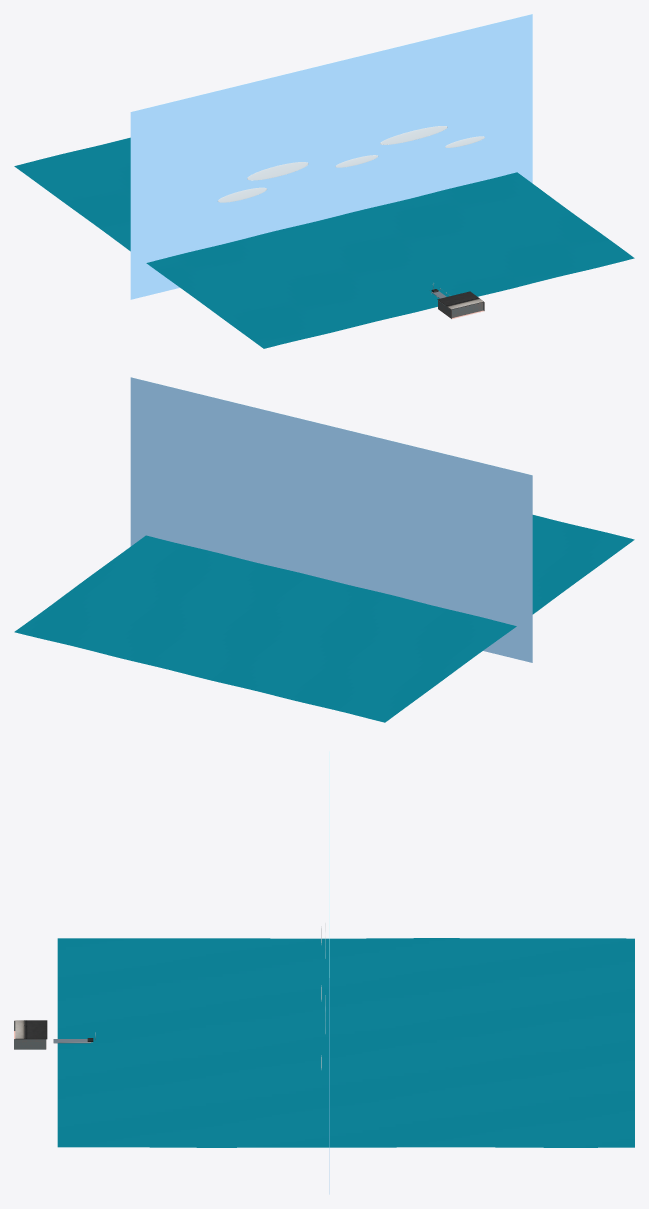
The model's file is ModernBridgeCockpit_VR_v1.1.glb.
3 views of the same model, one above another, from view 1: azimuth 30°, elevation 25°; view 2: azimuth 150°, elevation 25°; view 3: azimuth 270°, elevation 25° (orthographic). The views are drawn at different scales.
Parts seen in each view (by area): view 1: environment_sky_backdrop, environment_ocean_wave_preview, environment_cloud_soft_puff_1, environment_cloud_soft_puff_3, bridge_ceiling_panel; view 2: environment_sky_backdrop, environment_ocean_wave_preview; view 3: environment_ocean_wave_preview, bridge_ceiling_panel.
Boxes of the visible parts, bbox=[...] form: environment_sky_backdrop: bbox=[130, 14, 532, 299]; environment_ocean_wave_preview: bbox=[14, 137, 634, 348]; environment_cloud_soft_puff_1: bbox=[247, 162, 308, 180]; environment_cloud_soft_puff_3: bbox=[380, 126, 447, 144]; bridge_ceiling_panel: bbox=[437, 291, 483, 309]; environment_sky_backdrop: bbox=[130, 377, 532, 662]; environment_ocean_wave_preview: bbox=[14, 515, 634, 722]; environment_ocean_wave_preview: bbox=[57, 938, 634, 1147]; bridge_ceiling_panel: bbox=[15, 1020, 47, 1039].
Size of what is drawn, in the model's own units: 130 by 58 by 151.
Materials: 24 (7 with a texture image).
